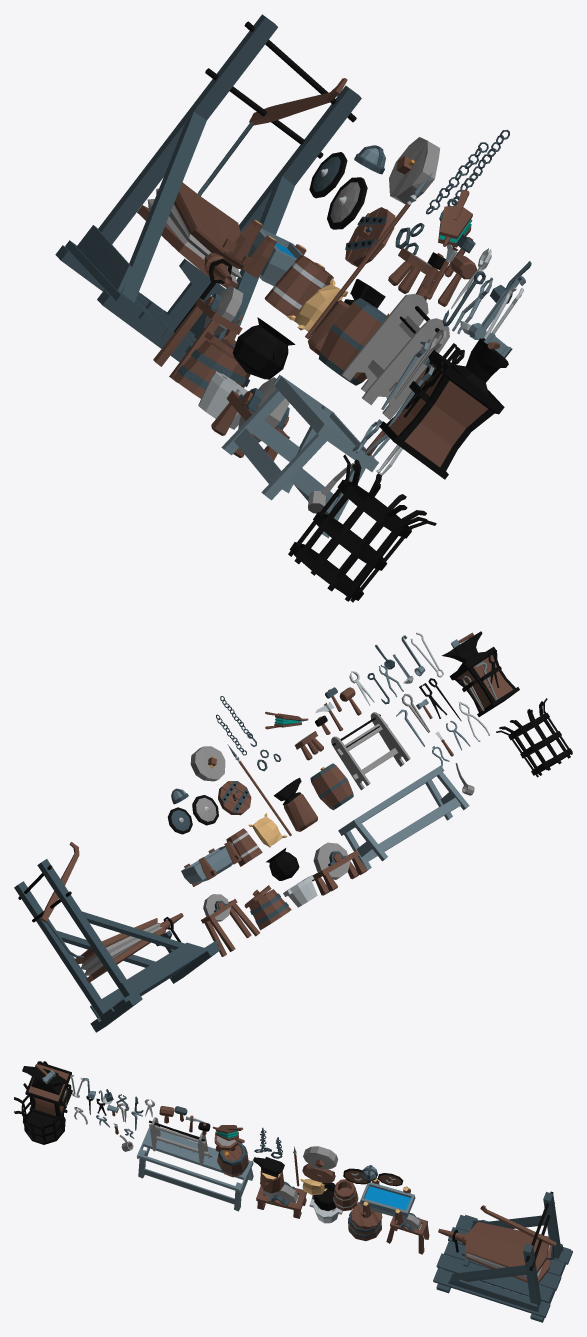
File: forge_parts.glb
3 views of the same model, one above another, from view 1: azimuth 30°, elevation 25°; view 2: azimuth 150°, elevation 25°; view 3: azimuth 270°, elevation 25° (orthographic). The views are drawn at different scales.
Parts seen in each view (by area): view 1: node_MeshObject-1025884160-PolyPaper20_0, node_MeshObject1271180288-PolyPaper20_1; view 2: node_MeshObject-1025884160-PolyPaper20_0, node_MeshObject1271180288-PolyPaper20_1; view 3: node_MeshObject-1025884160-PolyPaper20_0, node_MeshObject1271180288-PolyPaper20_1.
Part boxes in pixels (left/top/right/bottom): node_MeshObject-1025884160-PolyPaper20_0: left=137, top=145, right=525, bottom=602; node_MeshObject1271180288-PolyPaper20_1: left=55, top=14, right=531, bottom=513; node_MeshObject-1025884160-PolyPaper20_0: left=104, top=631, right=572, bottom=1016; node_MeshObject1271180288-PolyPaper20_1: left=14, top=645, right=474, bottom=1032; node_MeshObject-1025884160-PolyPaper20_0: left=14, top=1061, right=561, bottom=1290; node_MeshObject1271180288-PolyPaper20_1: left=104, top=1089, right=572, bottom=1322.
Bounding box in the file's own units: 2.83 × 2.13 × 4.99.
